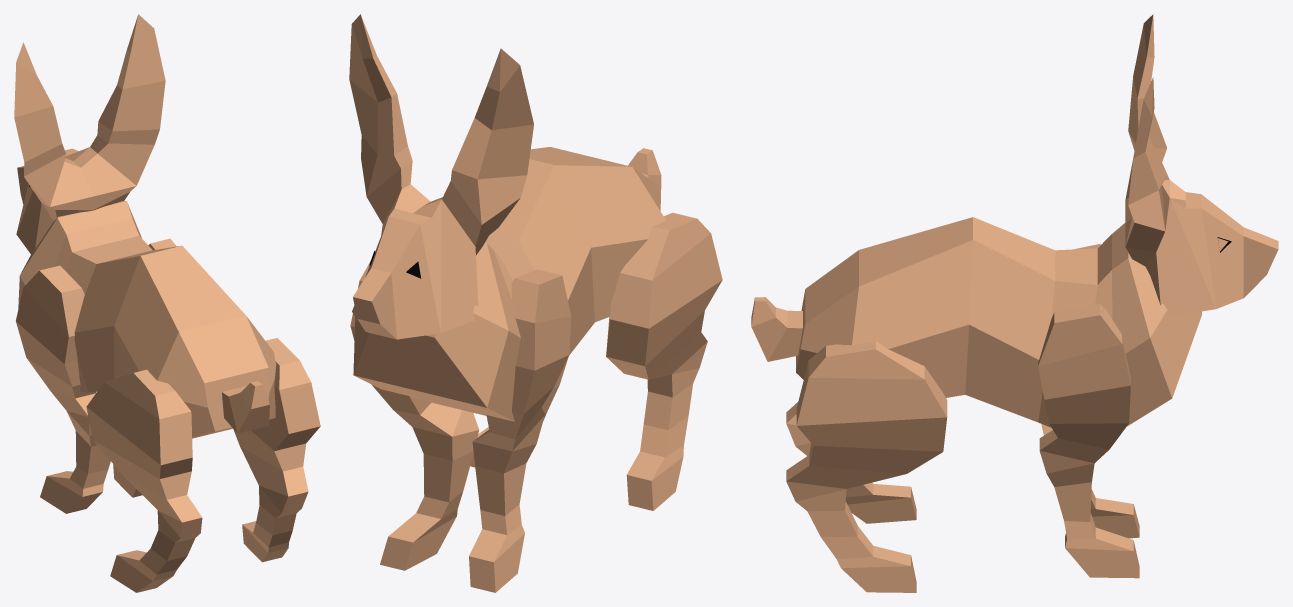
Rendered from rabbit.glb.
3 renders of one model, left to right at view 1: azimuth 30°, elevation 25°; view 2: azimuth 150°, elevation 25°; view 3: azimuth 270°, elevation 25°, orthographic. The views are drawn at different scales.
Parts seen in each view (by area): view 1: Cube.005; view 2: Cube.005; view 3: Cube.005.
Part boxes in pixels (x1,y1,x2,y2): Cube.005: (14,14,320,592); Cube.005: (349,14,722,592); Cube.005: (751,14,1278,592).
Size of the model in its own units: 0.3034 by 0.7579 by 0.7121.
